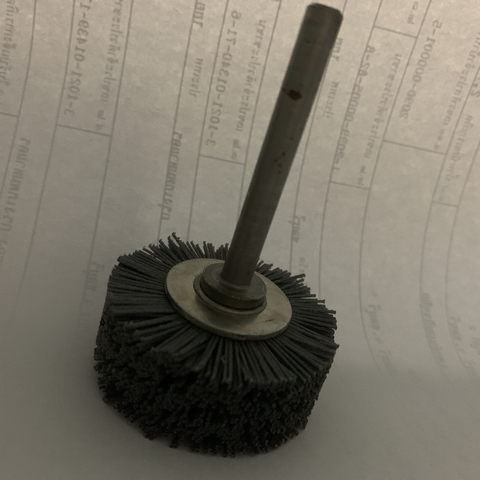Wheel Brush: (94, 7, 361, 460), (75, 6, 331, 463), (94, 54, 336, 469)
